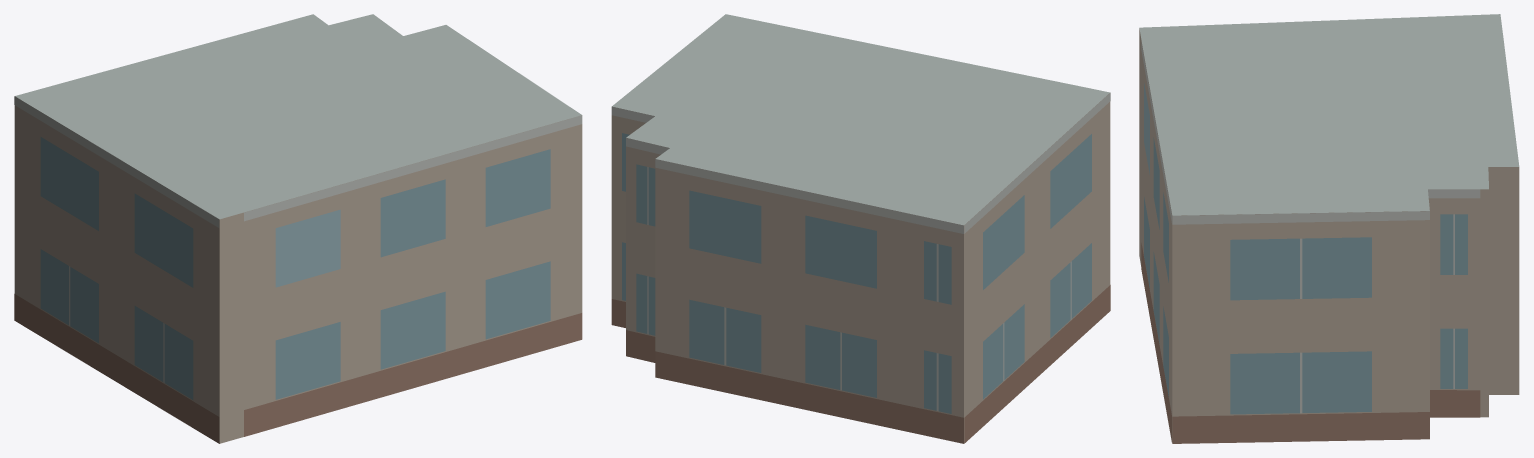
The model's file is survey-upis-32990140.glb.
3 views of the same model, side by side, from view 1: azimuth 30°, elevation 25°; view 2: azimuth 150°, elevation 25°; view 3: azimuth 270°, elevation 25° (orthographic). The views are drawn at different scales.
Parts seen in each view (by area): view 1: survey-upis-32990140.tmp; view 2: survey-upis-32990140.tmp; view 3: survey-upis-32990140.tmp.
Boxes of the visible parts, x1,y1,x2,y2 form: survey-upis-32990140.tmp: (14,14,582,443); survey-upis-32990140.tmp: (611,14,1110,443); survey-upis-32990140.tmp: (1139,14,1519,443).
Bounding box in the file's own units: 11.56 × 6.1 × 9.21.
